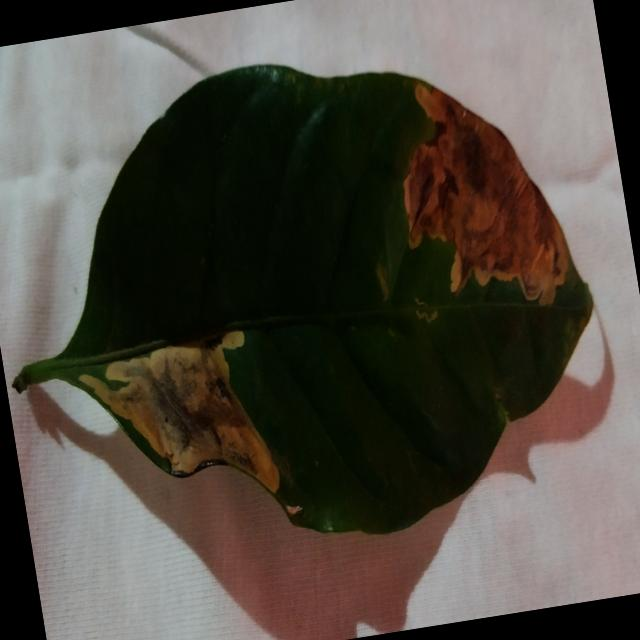KaratDaunKopi: (404, 85, 568, 306), (79, 331, 279, 492), (376, 263, 389, 302), (416, 310, 437, 324), (285, 505, 303, 515)
